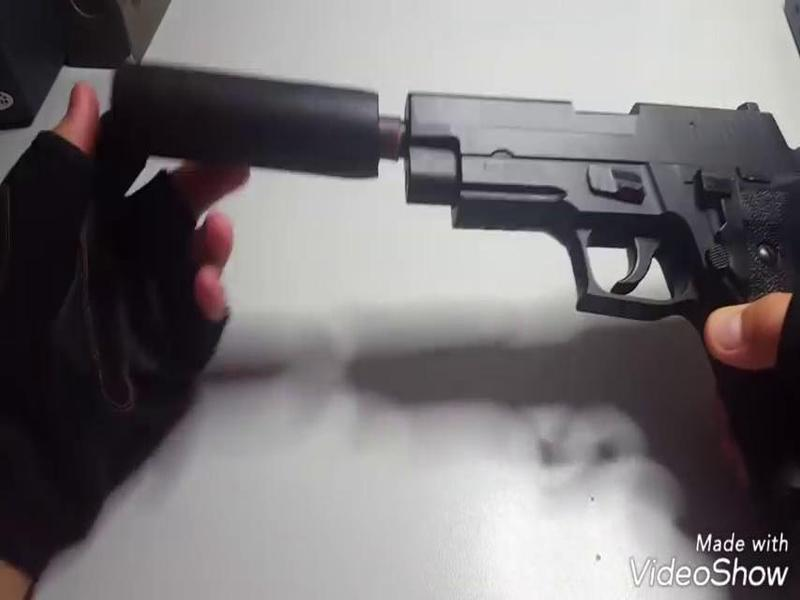Pistola: (398, 70, 800, 400)
